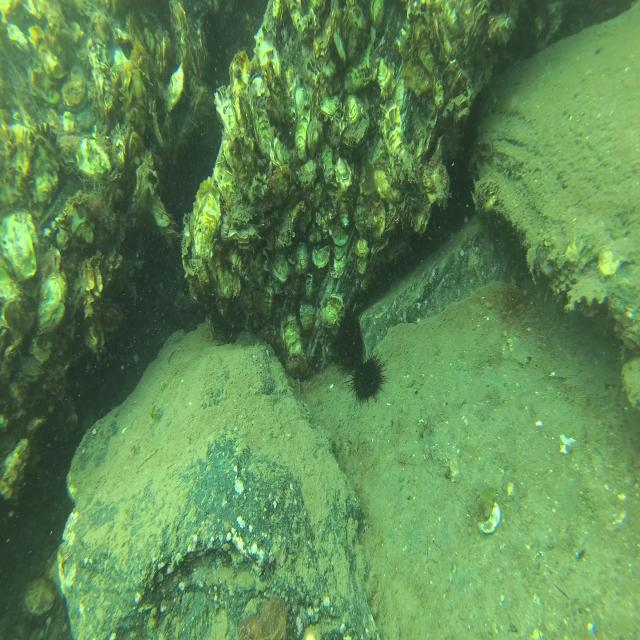echinus: (351, 350, 385, 404), (334, 312, 365, 367)
